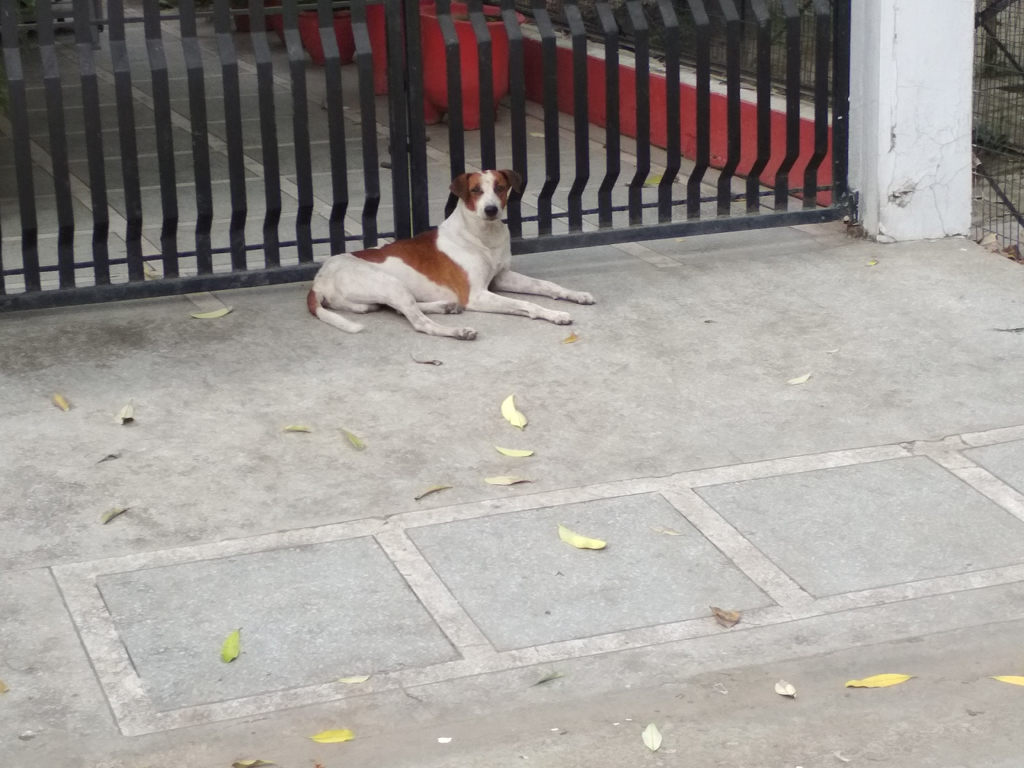dog: (307, 167, 594, 340)
